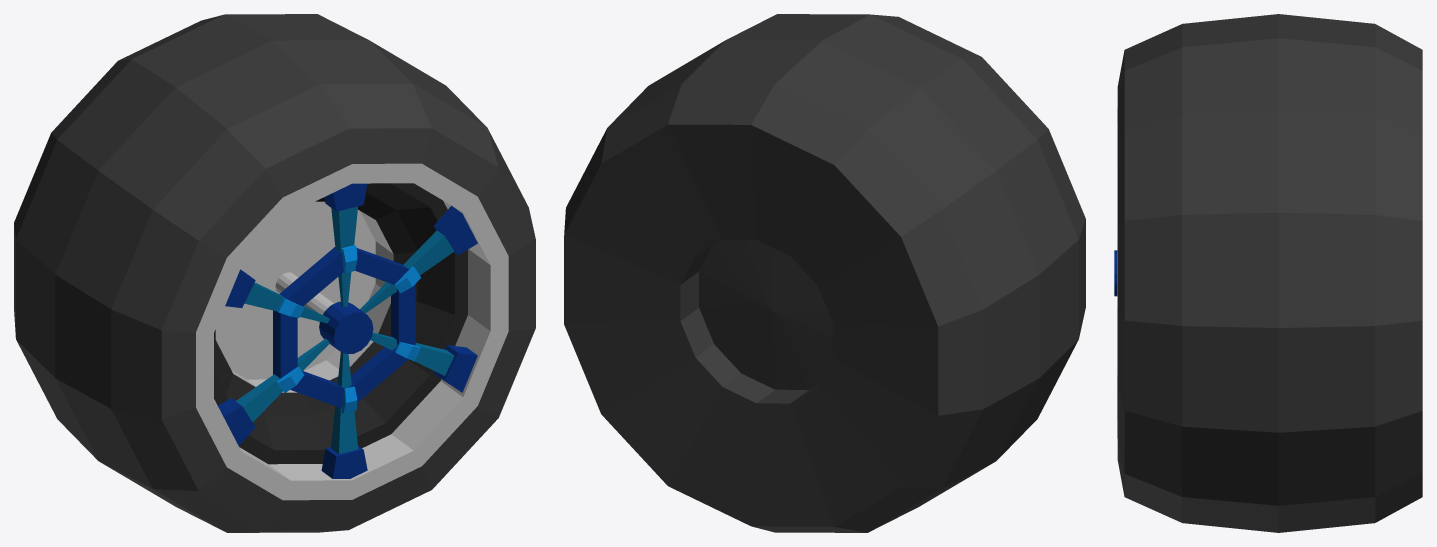
File: wheel41.fbx
3 renders of one model, left to right at view 1: azimuth 30°, elevation 25°; view 2: azimuth 150°, elevation 25°; view 3: azimuth 270°, elevation 25°, orthographic.
Visible parts, largest first — view 1: lanot_wheel40_L; view 2: lanot_wheel40_L; view 3: lanot_wheel40_L.
Part boxes in pixels (left/top/right/bottom): lanot_wheel40_L: left=14, top=14, right=535, bottom=532; lanot_wheel40_L: left=564, top=14, right=1085, bottom=532; lanot_wheel40_L: left=1114, top=14, right=1422, bottom=532.
Size of the model in its own units: 152 by 156 by 92.66.
